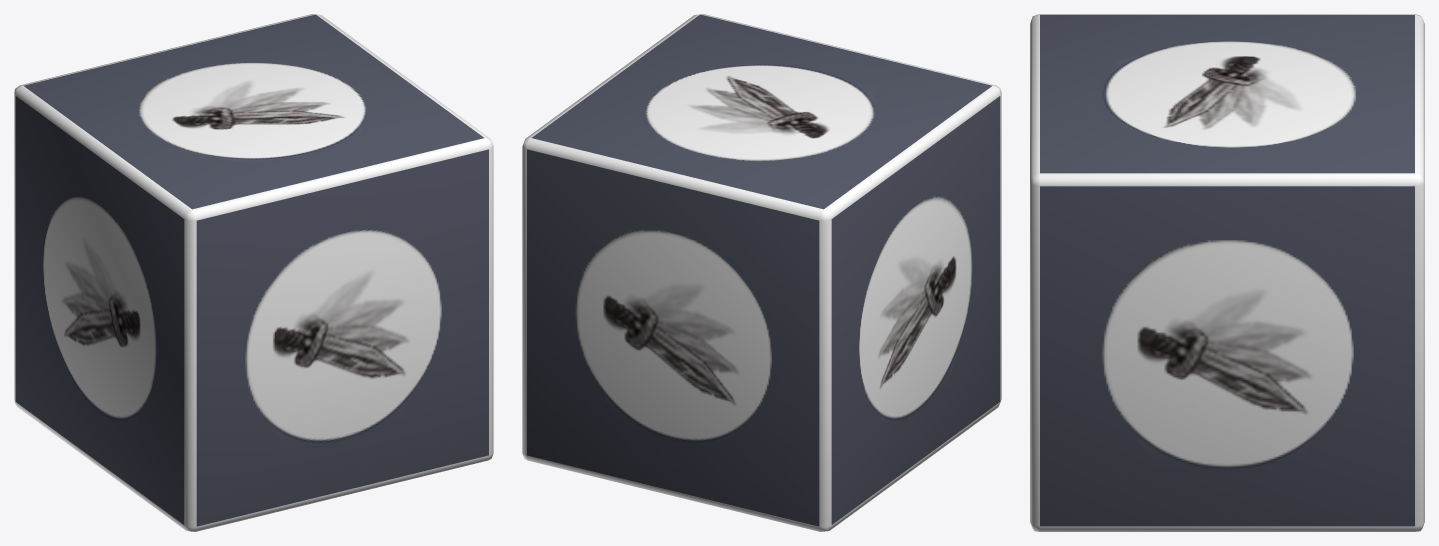
File: AtkSpeed.FBX
3 renders of one model, left to right at view 1: azimuth 30°, elevation 25°; view 2: azimuth 150°, elevation 25°; view 3: azimuth 270°, elevation 25°, orthographic. The views are drawn at different scales.
Visible parts, largest first — view 1: AtkSpeed; view 2: AtkSpeed; view 3: AtkSpeed.
Part boxes in pixels (x1,y1,x2,y2): AtkSpeed: (14,14,493,531); AtkSpeed: (522,14,1001,531); AtkSpeed: (1030,14,1424,531).
Size of the model in its own units: 20 by 20 by 20.
